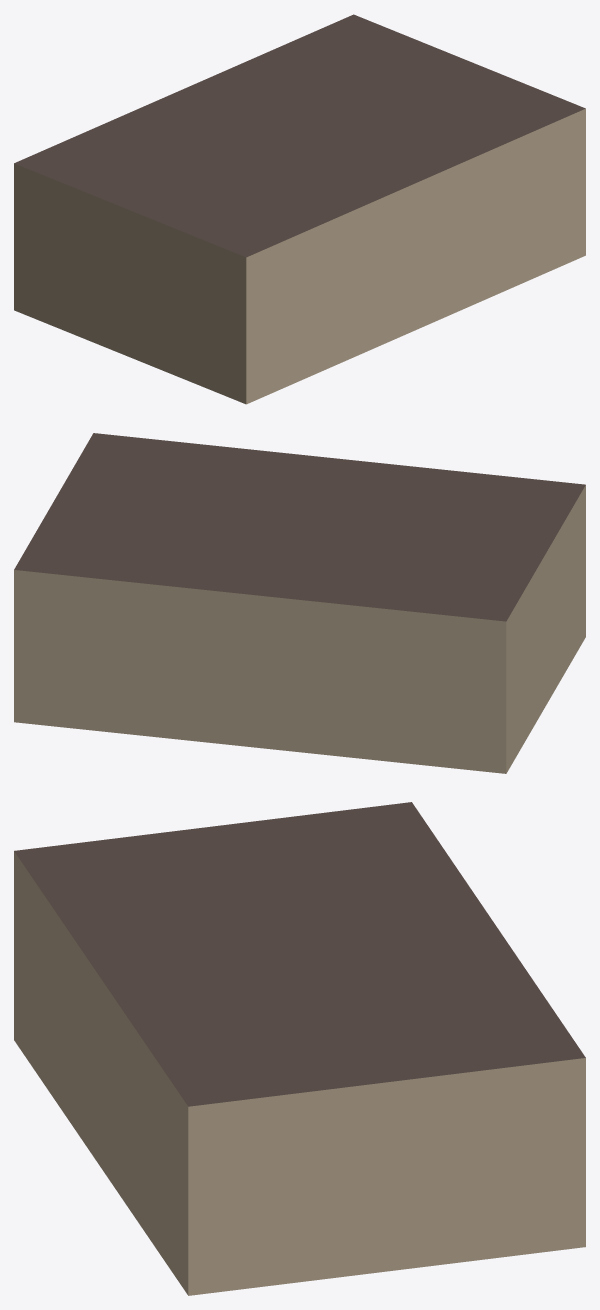
3 views of the same model, one above another, from view 1: azimuth 30°, elevation 25°; view 2: azimuth 150°, elevation 25°; view 3: azimuth 270°, elevation 25° (orthographic). The views are drawn at different scales.
Parts seen in each view (by area): view 1: HP-w293397484; view 2: HP-w293397484; view 3: HP-w293397484.
Part boxes in pixels (x1,y1,x2,y2): HP-w293397484: (14,14,585,404); HP-w293397484: (14,433,585,773); HP-w293397484: (14,802,585,1295).
Size of the model in its own units: 31.08 by 9 by 24.66.
